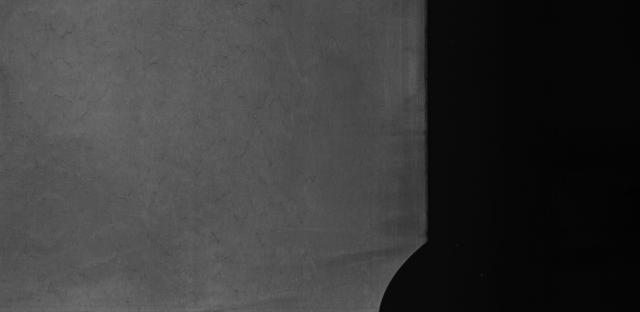crescent_gap: (372, 231, 444, 312)
